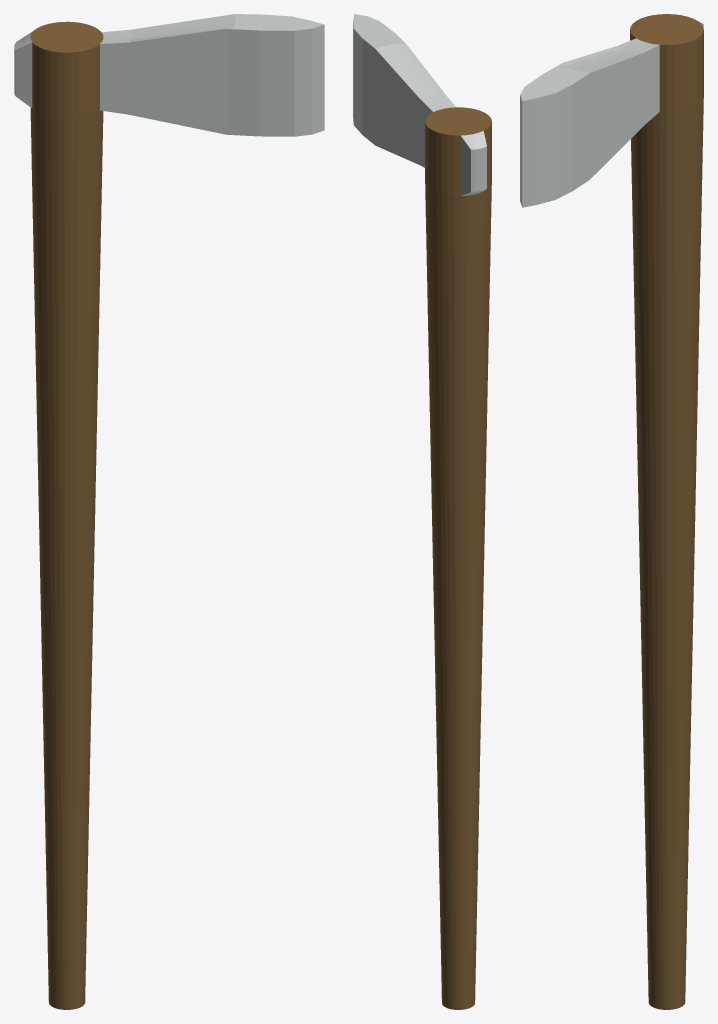
The model's file is Axe.fbx.
3 renders of one model, left to right at view 1: azimuth 30°, elevation 25°; view 2: azimuth 150°, elevation 25°; view 3: azimuth 270°, elevation 25°, orthographic. The views are drawn at different scales.
Parts seen in each view (by area): view 1: Cylinder; view 2: Cylinder; view 3: Cylinder.
Part boxes in pixels (x1,y1,x2,y2): Cylinder: (14,14,324,1009); Cylinder: (353,14,491,1009); Cylinder: (520,14,703,1009).
Size of the model in its own units: 32.67 by 135 by 22.7.
